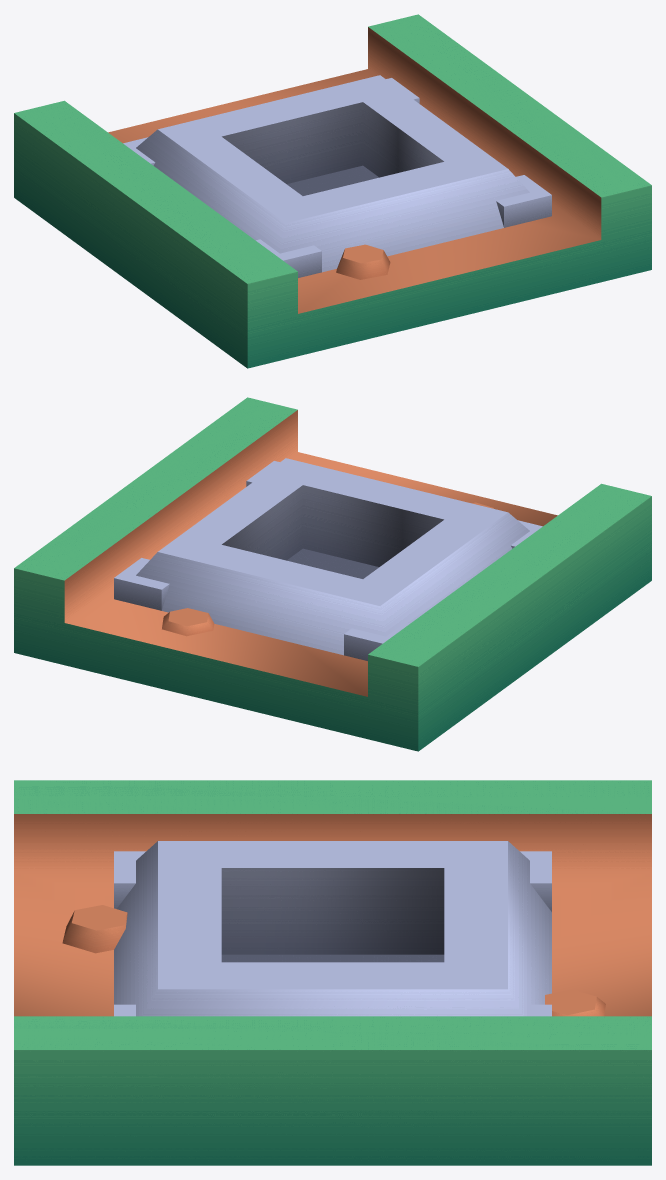
The model's file is tower-defense-kit--tile-spawn.glb.
3 renders of one model, top to bottom at view 1: azimuth 30°, elevation 25°; view 2: azimuth 150°, elevation 25°; view 3: azimuth 270°, elevation 25°, orthographic. The views are drawn at different scales.
Visible parts, largest first — view 1: tile-spawn; view 2: tile-spawn; view 3: tile-spawn.
Part boxes in pixels (box(x1,y1,x2,y2)): tile-spawn: box(14, 14, 651, 368); tile-spawn: box(14, 397, 651, 751); tile-spawn: box(14, 780, 651, 1165).
Bounding box in the file's own units: 1 × 0.2 × 1.
Materials: 1 (1 with a texture image).
